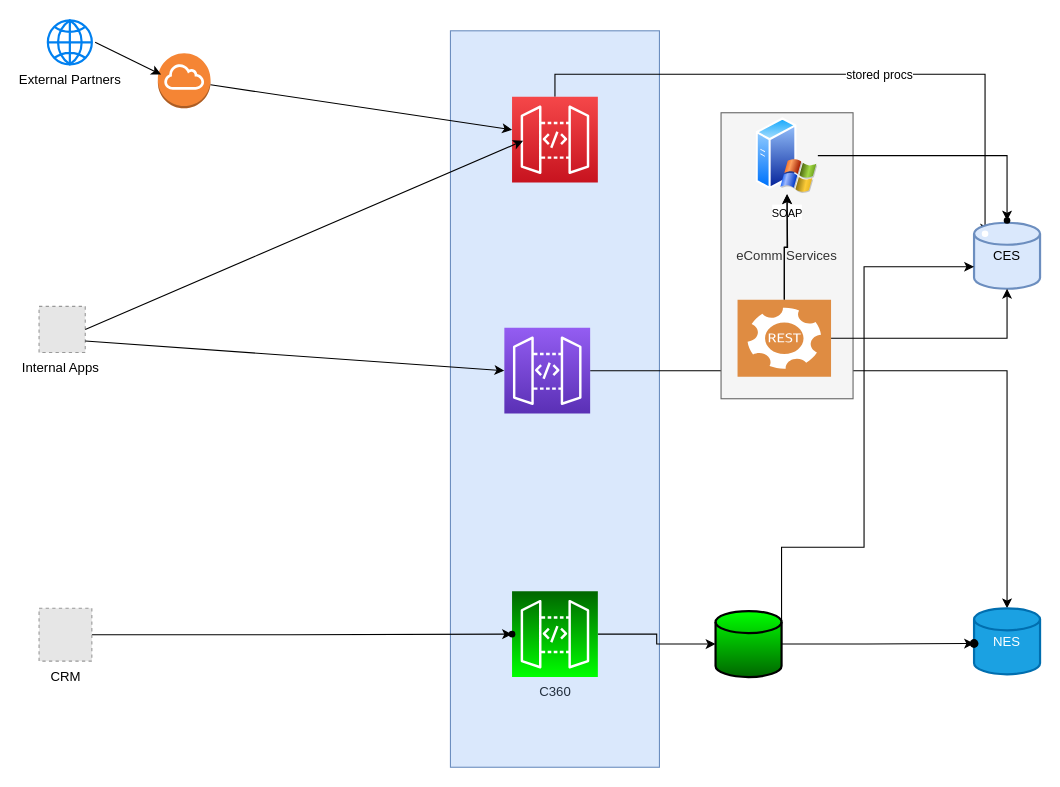
Some shapes in this 1060 by 787 pixel diagram are drawn without their labels. Grey dashed boxes stand in for pictures. The centre of each missing label's shape, as x and y in pixels:
C360 DB: (x=748, y=643)
Gateway: (x=184, y=80)
PlatAPI: (x=554, y=139)
Shim: (x=546, y=370)
